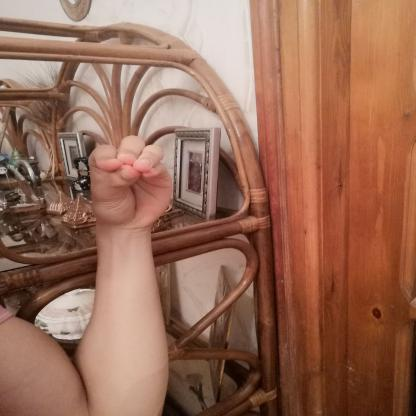HA: (74, 125, 183, 237)
